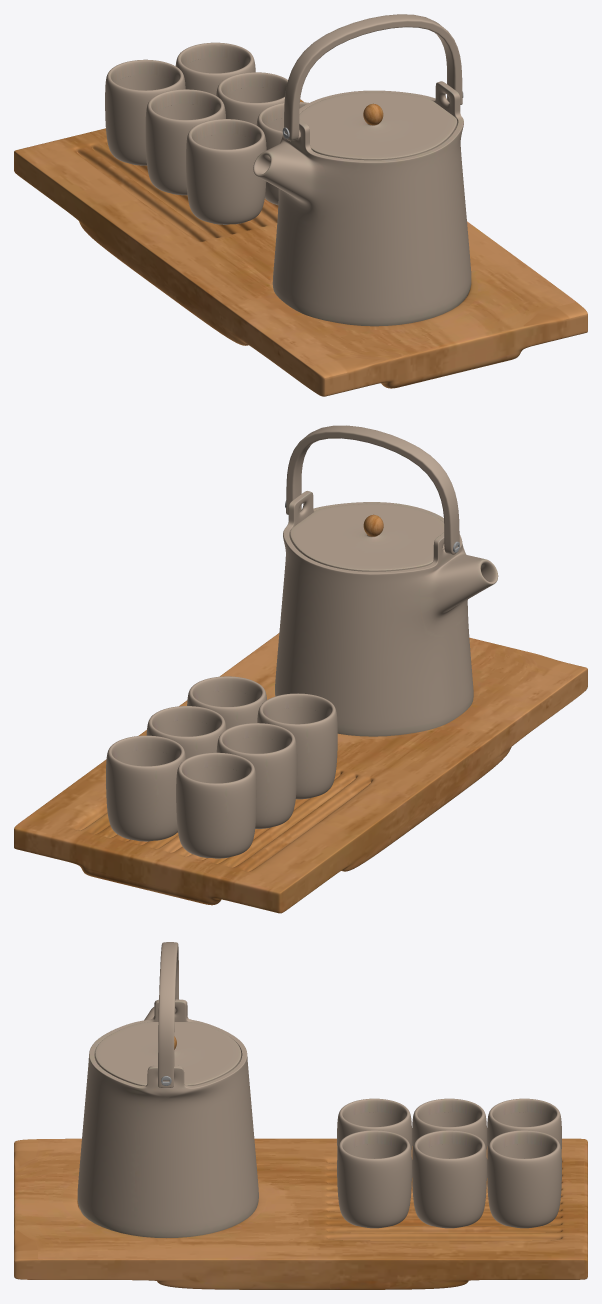
File: teapot.glb
3 views of the same model, one above another, from view 1: azimuth 30°, elevation 25°; view 2: azimuth 150°, elevation 25°; view 3: azimuth 270°, elevation 25° (orthographic). The views are drawn at different scales.
Visible parts, largest first — view 1: Tray_Tray wood_0, Kettle_Kettle Ceramic_0, Cups_Cup Ceramic_0, Lid.001_Lid Ceramic_0; view 2: Tray_Tray wood_0, Kettle_Kettle Ceramic_0, Cups_Cup Ceramic_0, Lid.001_Lid Ceramic_0; view 3: Tray_Tray wood_0, Kettle_Kettle Ceramic_0, Cups_Cup Ceramic_0, Lid.001_Lid Ceramic_0.
Boxes of the visible parts, x1=… form: Tray_Tray wood_0: x1=14, y1=99, x2=587, y2=396; Kettle_Kettle Ceramic_0: x1=253, y1=14, x2=471, y2=326; Cups_Cup Ceramic_0: x1=105, y1=42, x2=308, y2=224; Lid.001_Lid Ceramic_0: x1=299, y1=92, x2=457, y2=160; Tray_Tray wood_0: x1=14, y1=633, x2=587, y2=913; Kettle_Kettle Ceramic_0: x1=275, y1=425, x2=498, y2=736; Cups_Cup Ceramic_0: x1=106, y1=676, x2=337, y2=858; Lid.001_Lid Ceramic_0: x1=290, y1=503, x2=444, y2=571; Tray_Tray wood_0: x1=14, y1=1138, x2=587, y2=1289; Kettle_Kettle Ceramic_0: x1=77, y1=942, x2=258, y2=1237; Cups_Cup Ceramic_0: x1=337, y1=1098, x2=561, y2=1228; Lid.001_Lid Ceramic_0: x1=95, y1=1022, x2=241, y2=1085.
Bounding box in the file's own units: 0.25 × 0.2632 × 0.5.
Materials: 6 (5 with a texture image).
